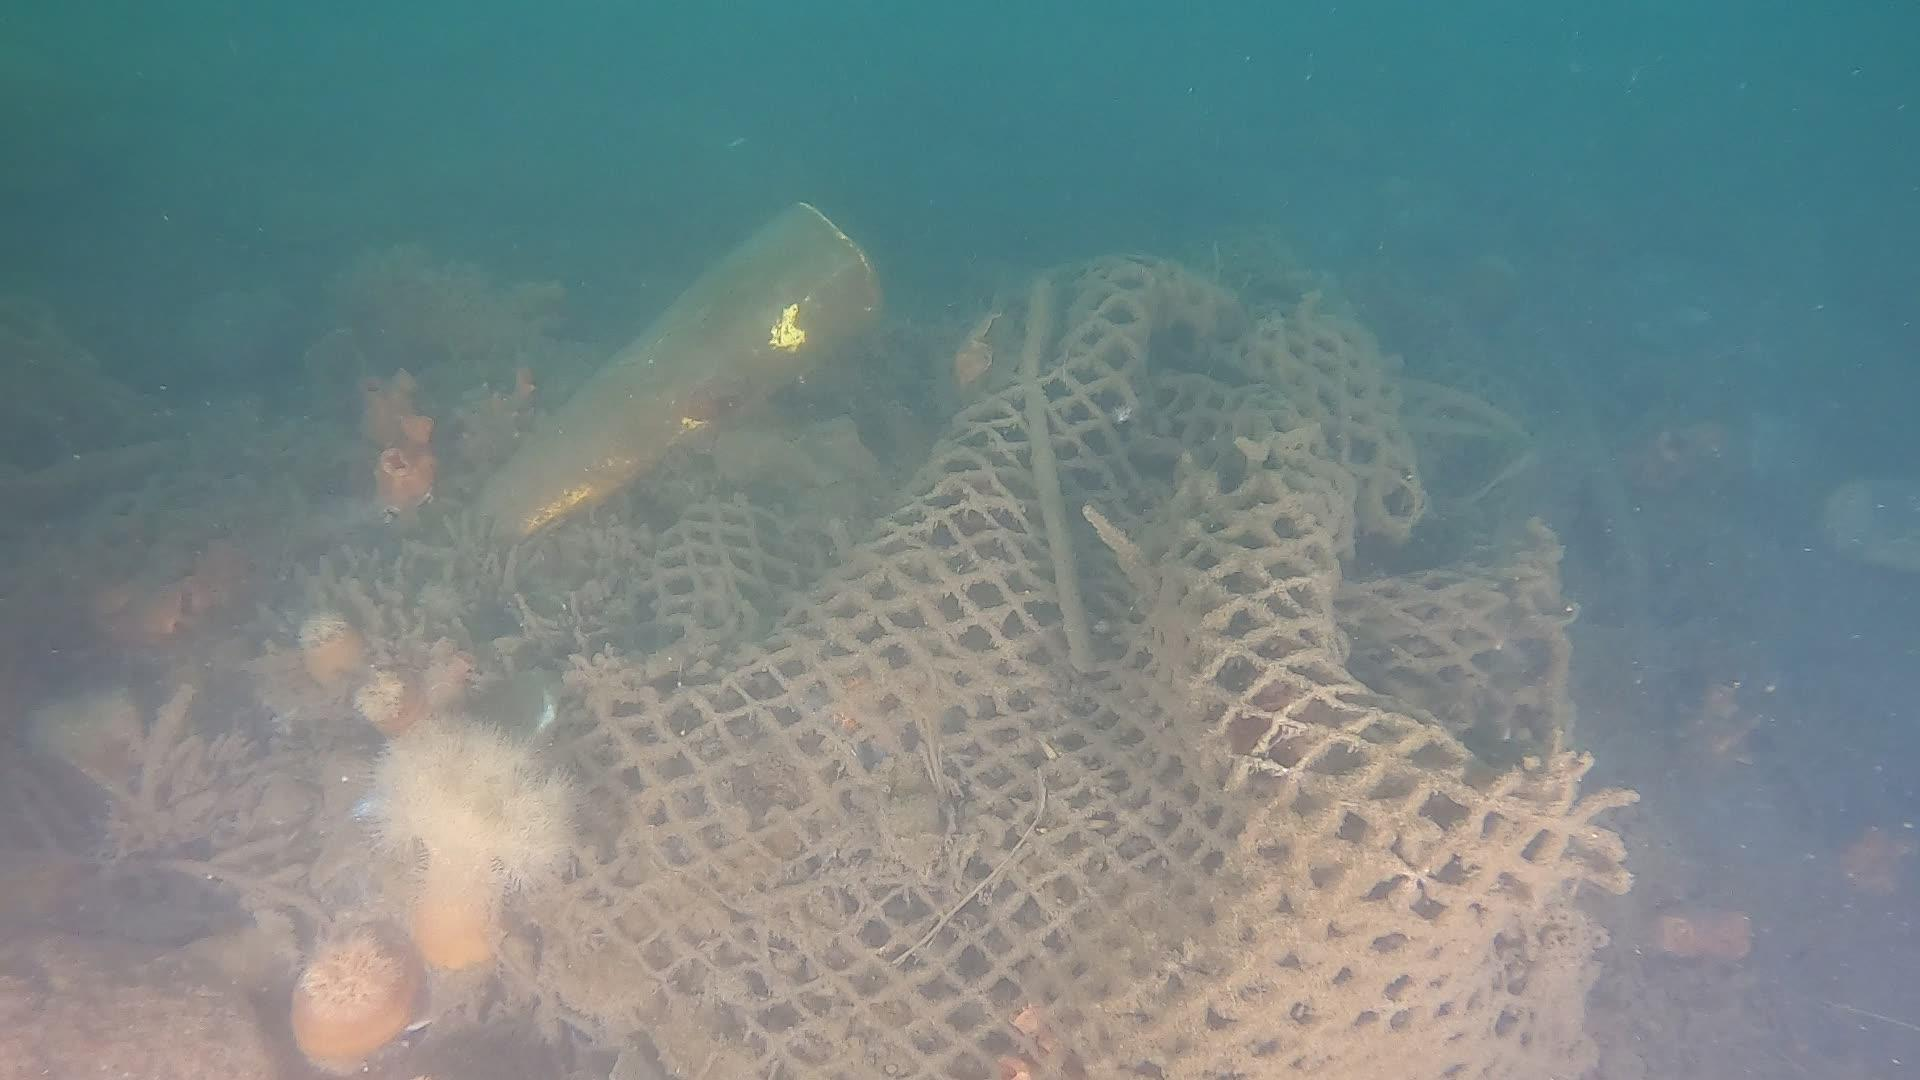fish net: (567, 251, 1648, 1080)
